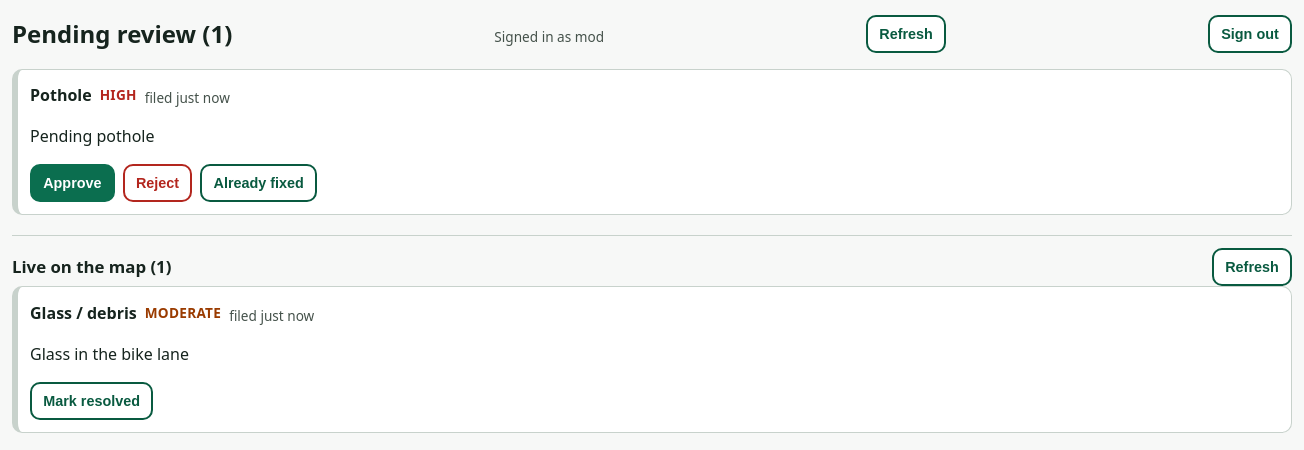
Test case: ModerationPanel — resolve (#140) › marks a live hazard resolved, and sends decision=resolve
Expected: the text "Glass in the bike lane" is shown, [30, 343, 189, 365]
Click the button "Mark resolved".
click(92, 401)  # box [30, 382, 153, 420]
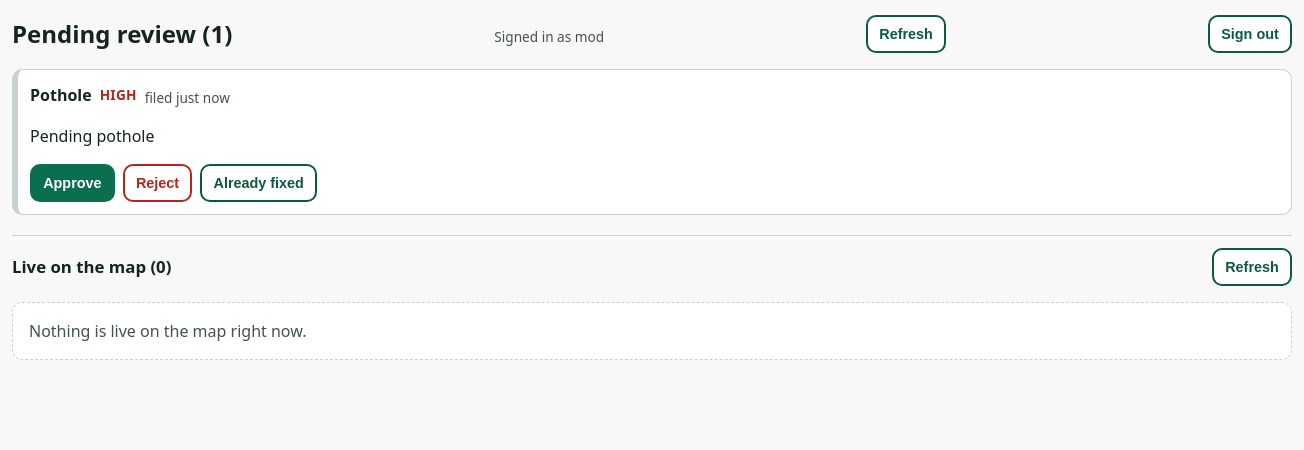
Expected: the heading "Pending review (1)" is shown, [12, 20, 232, 49]
Expected: the text "Glass in the bike lane" is gone
Expected: the heading "Live on the map (0)" is shown, [12, 257, 171, 278]
